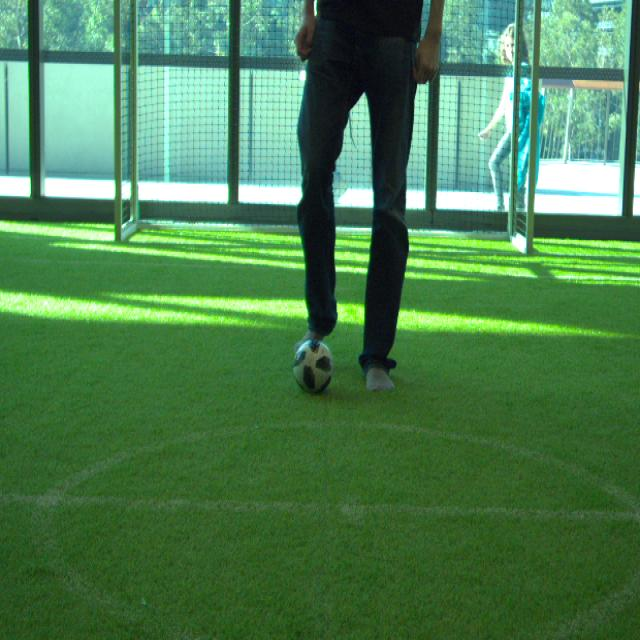ball: (292, 339, 334, 397)
goalpost: (524, 3, 541, 252), (111, 2, 122, 242)
